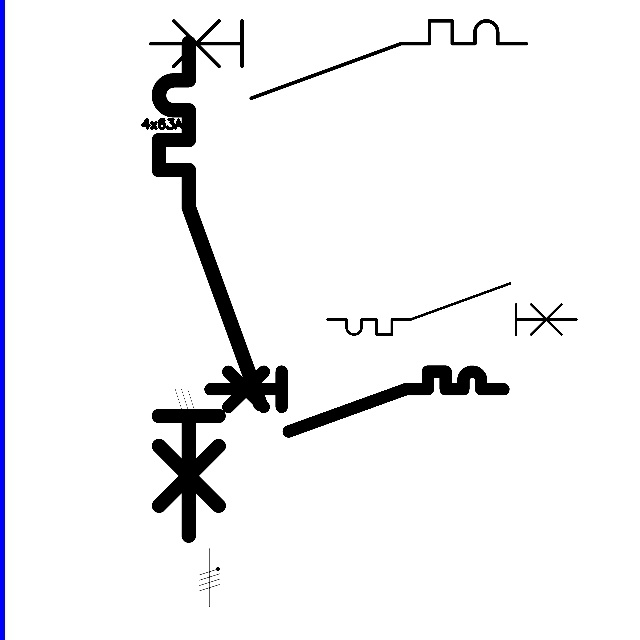interruptor_termomagnetico: (146, 30, 273, 548), (141, 11, 536, 107), (202, 364, 510, 439), (321, 277, 583, 341)
